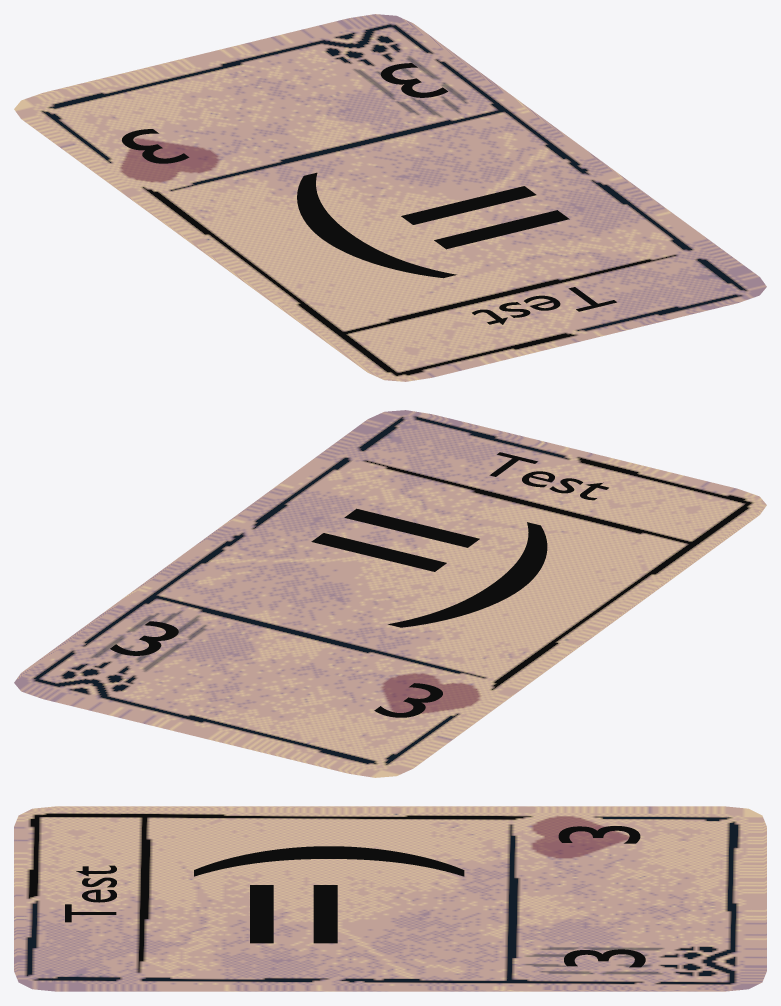
The model's file is testcardformat.glb.
The picture shows the model from 3 angles, top to bottom: view 1: azimuth 30°, elevation 25°; view 2: azimuth 150°, elevation 25°; view 3: azimuth 270°, elevation 25°; orthographic projection. The views are drawn at different scales.
Parts seen in each view (by area): view 1: card.001, Text.002, Test, Text, Text.001; view 2: card.001, Text.002, Test, Text, Text.001; view 3: card.001, Text.002, Test, Text.001, Text.
Part boxes in pixels (x1,y1,x2,y2): card.001: [14, 14, 766, 381]; Text.002: [297, 172, 569, 278]; Test: [472, 287, 616, 324]; Text: [122, 129, 189, 163]; Text.001: [380, 63, 447, 97]; card.001: [14, 410, 766, 777]; Text.002: [311, 508, 547, 627]; Test: [489, 452, 608, 500]; Text: [374, 683, 442, 717]; Text.001: [110, 621, 178, 655]; card.001: [14, 806, 766, 991]; Text.002: [194, 846, 464, 943]; Test: [65, 865, 116, 922]; Text.001: [564, 949, 645, 967]; Text: [558, 826, 640, 843].
Size of the model in its own units: 44.93 by 0.6623 by 77.22.
Materials: 4 (1 with a texture image).
